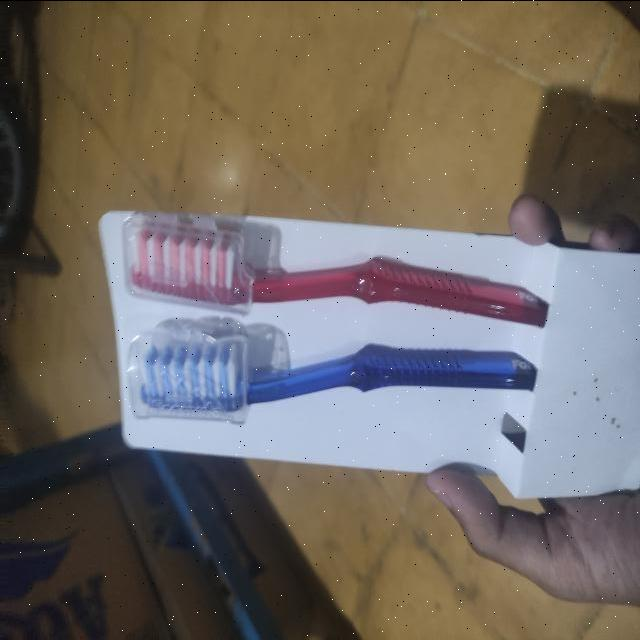toothbrush: (113, 195, 551, 347), (116, 314, 552, 442)
